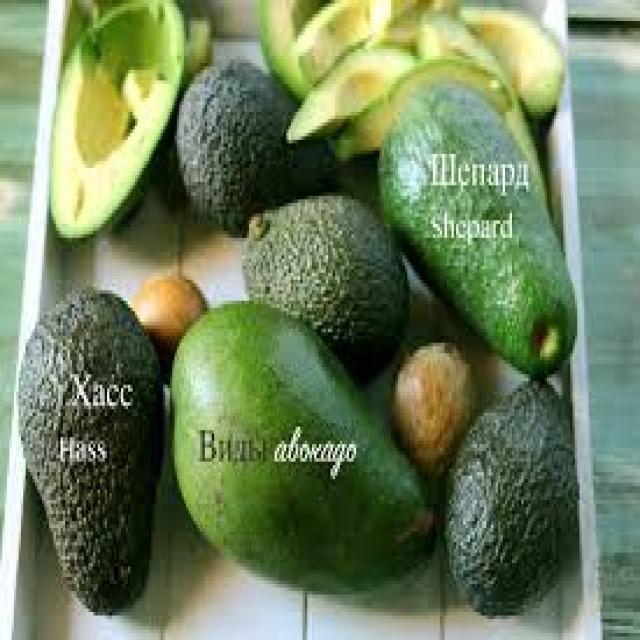avocado: (175, 283, 442, 610), (382, 36, 580, 392), (13, 250, 170, 630), (252, 0, 613, 130), (449, 366, 586, 609), (188, 34, 378, 209), (42, 0, 184, 227), (224, 188, 410, 355)
